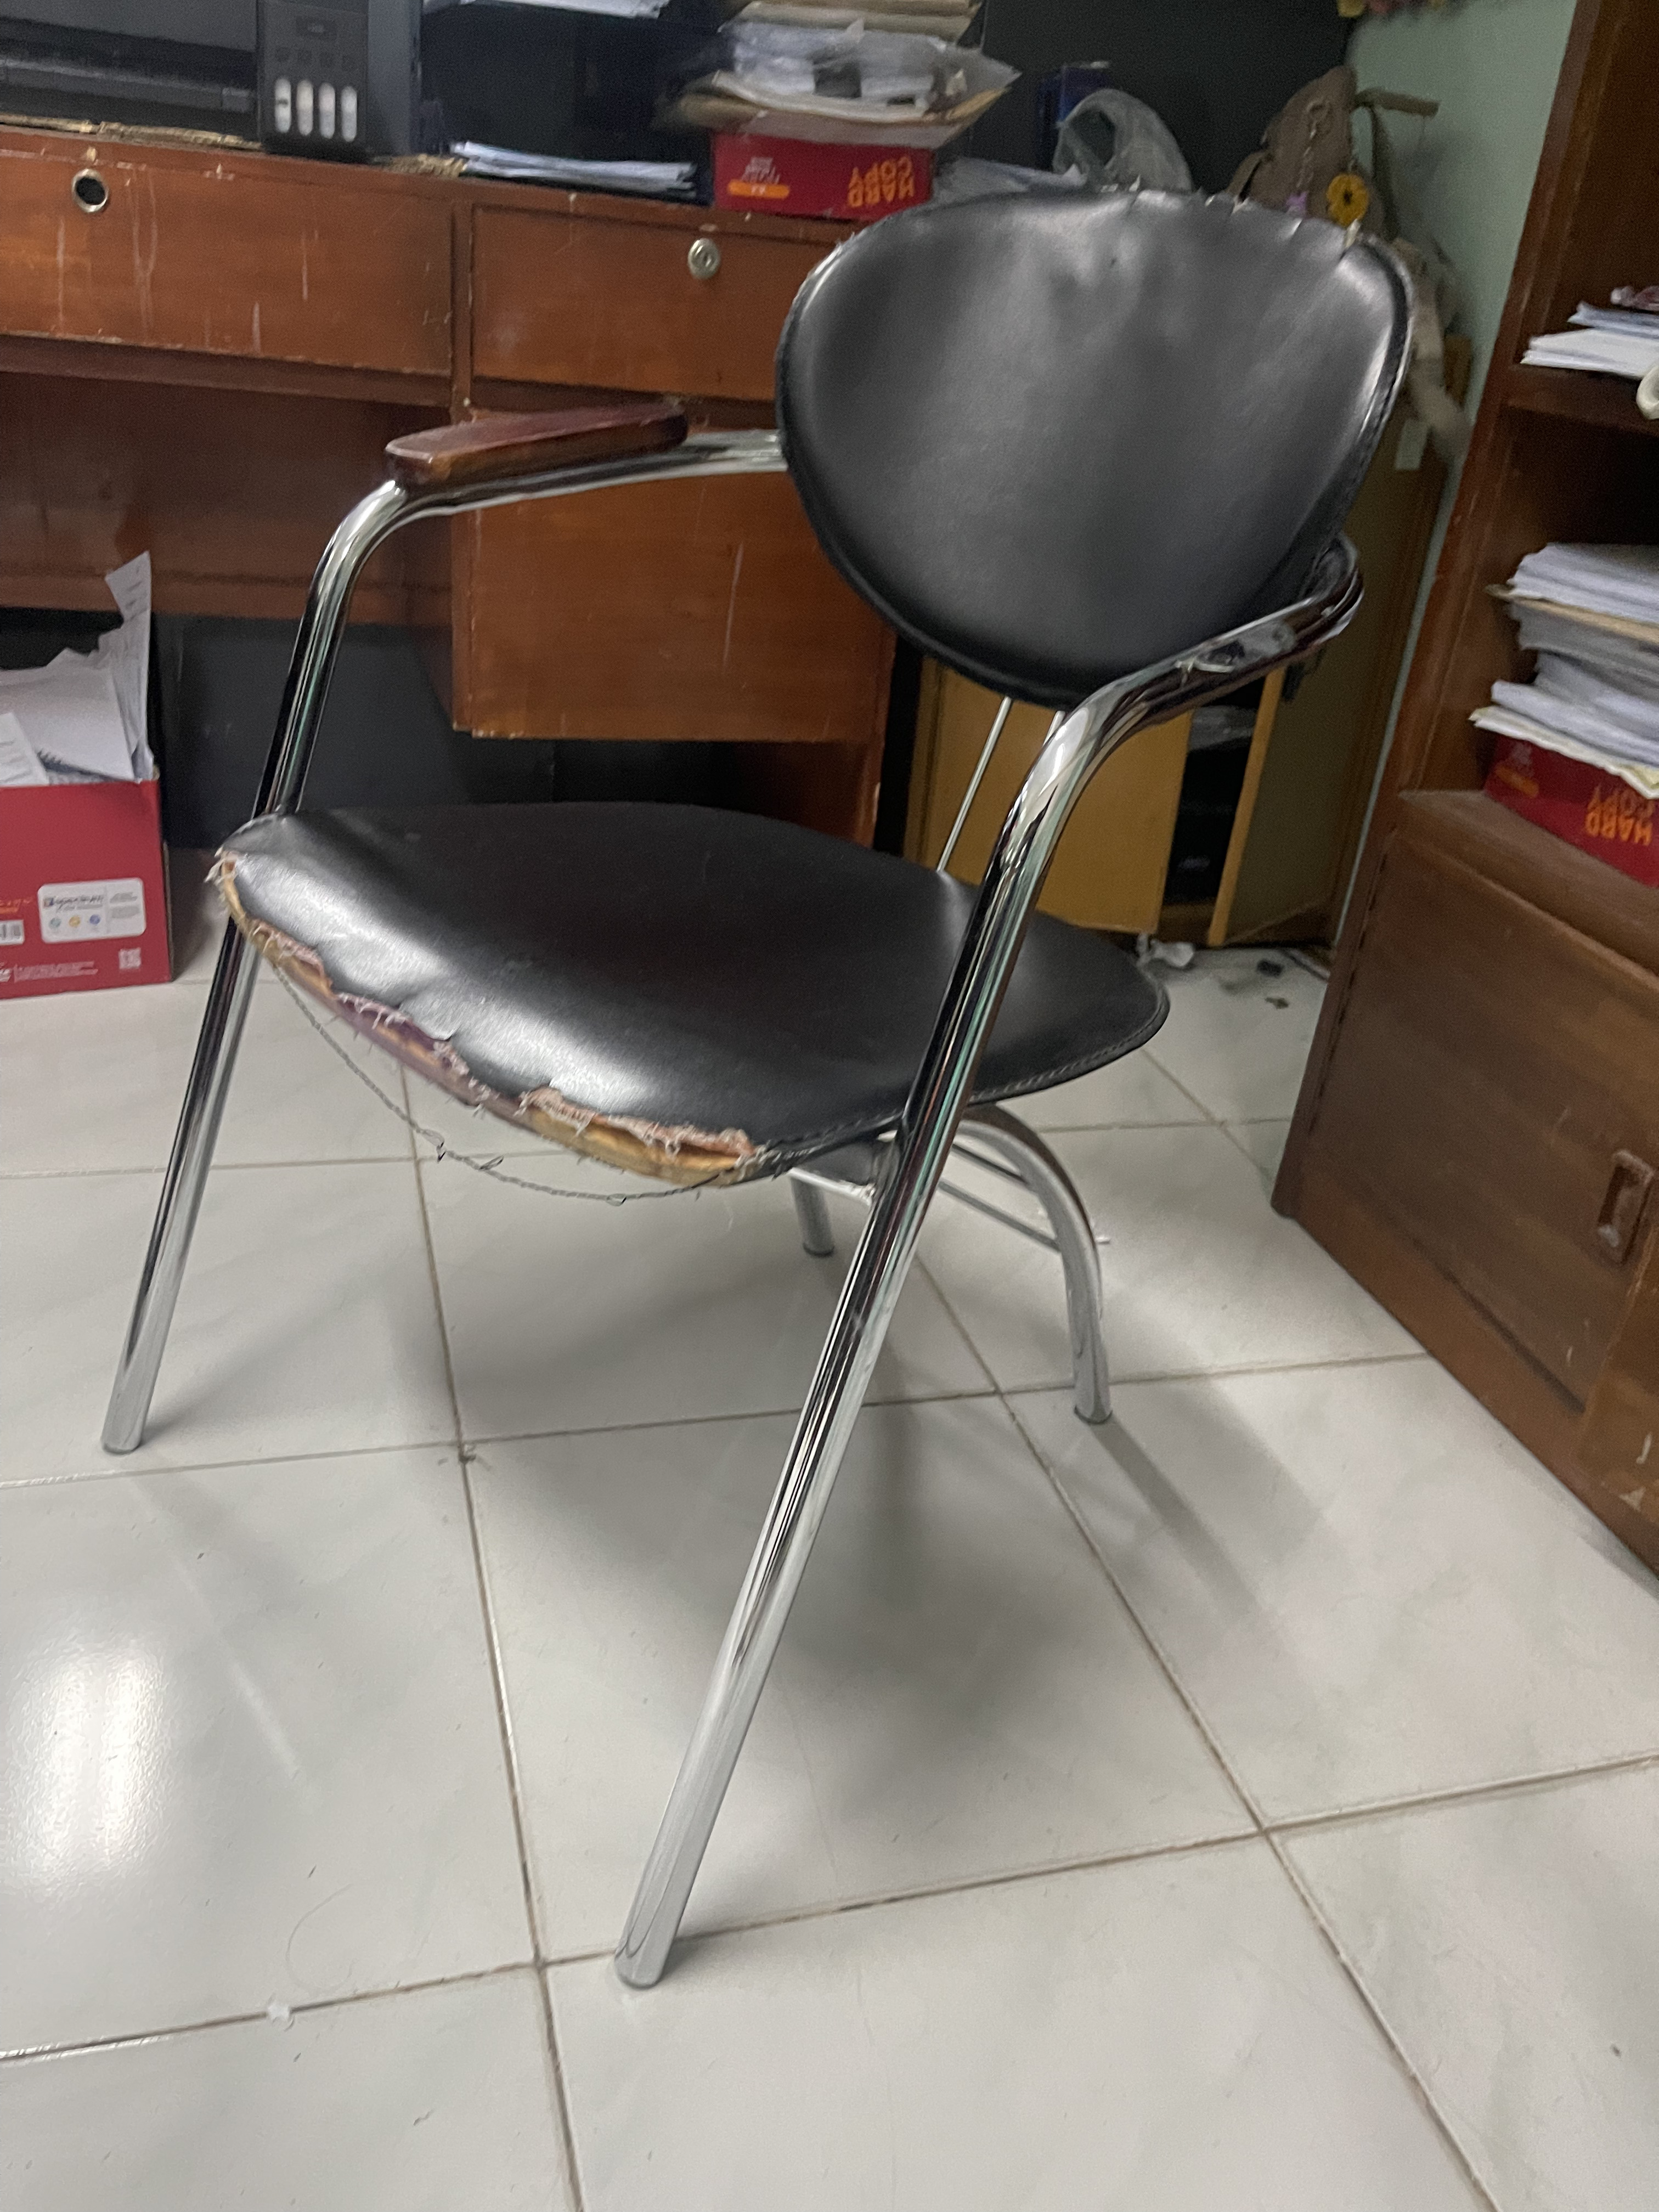chair1: (96, 171, 1425, 1993)
